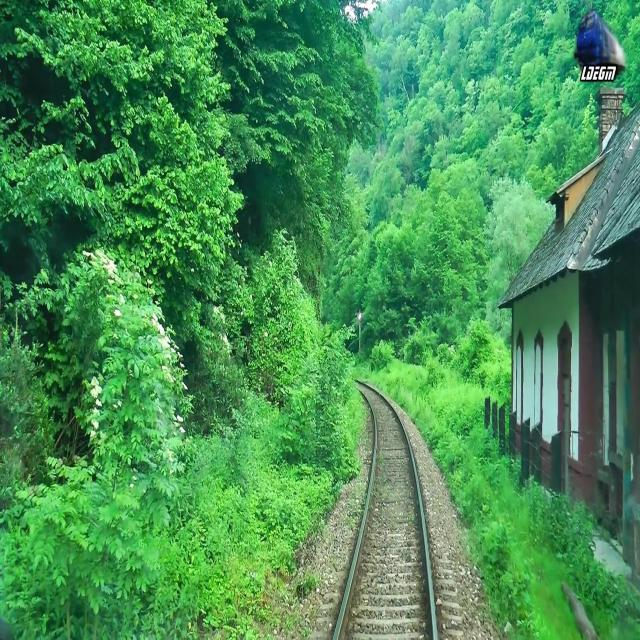rail-track: (338, 385, 432, 639)
